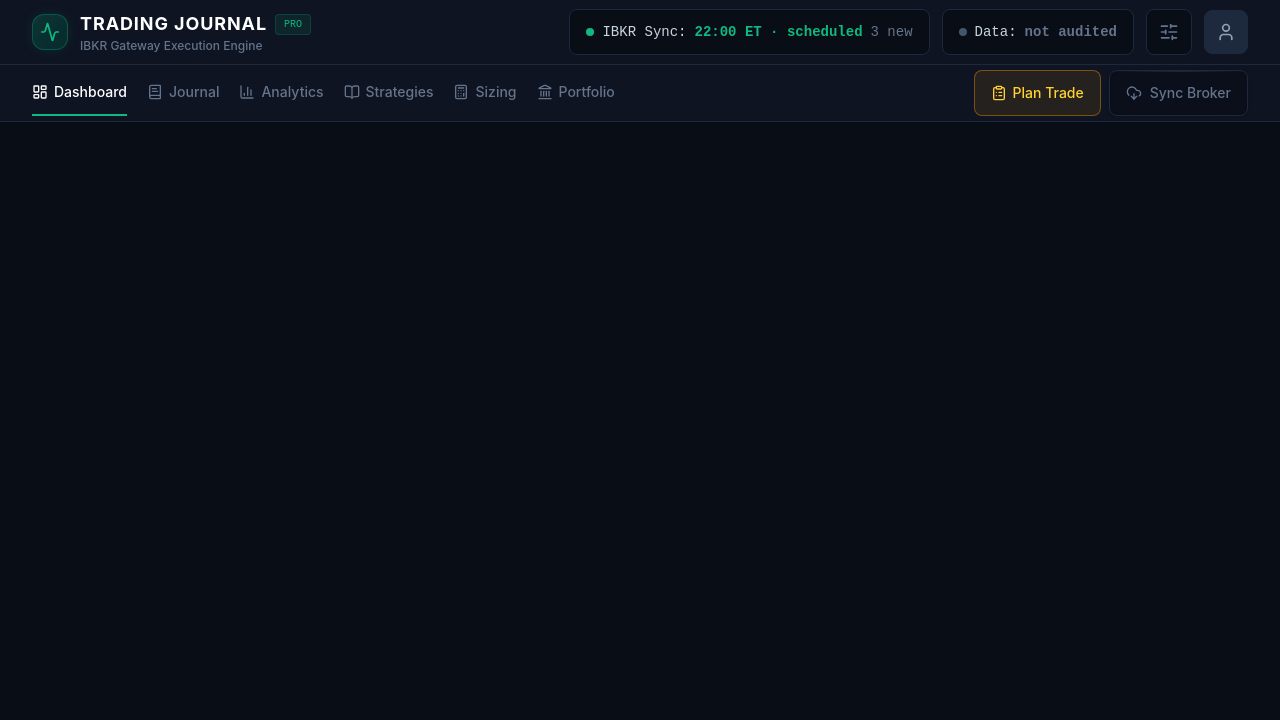
Scenario: AppNav > IBKR sync badge › opens the detail modal for that run when clicked
Click the button titled "Click for the full result" at (750, 32), box [570,9,930,55]
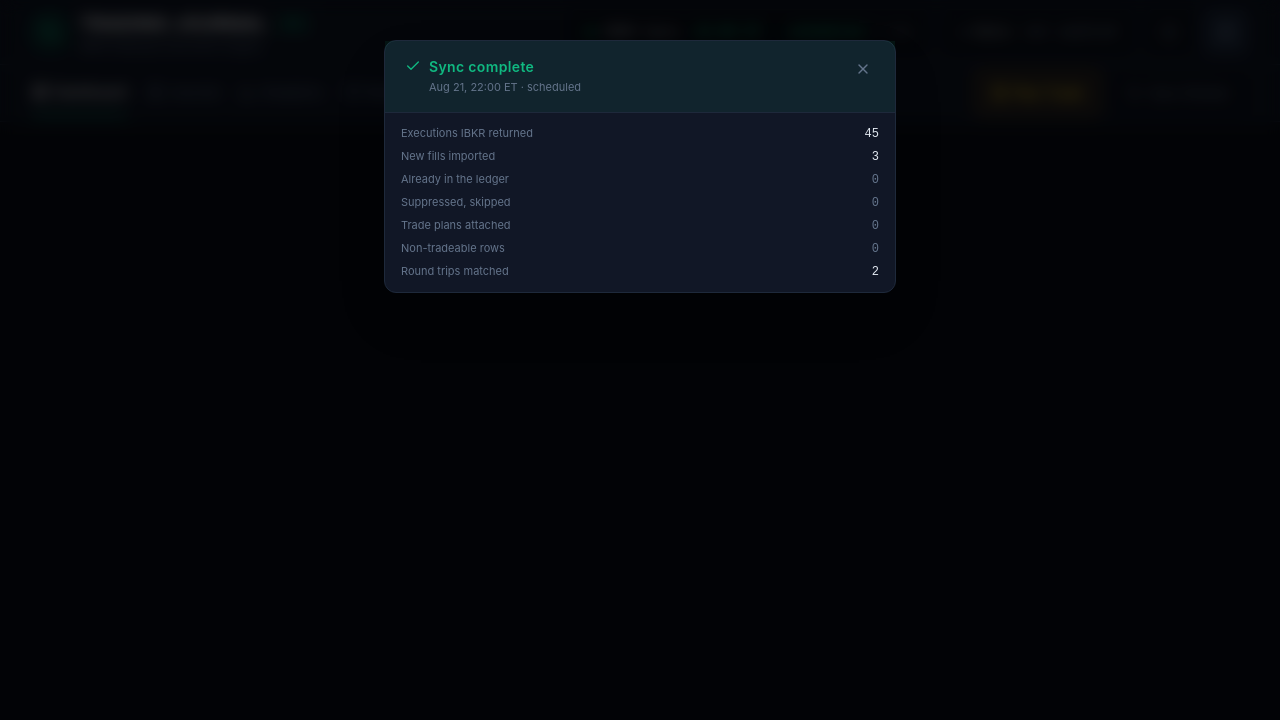
Expected: the heading "Sync complete" is shown, [429,58,534,75]
Expected: the text "45" is shown, [865,126,879,142]
